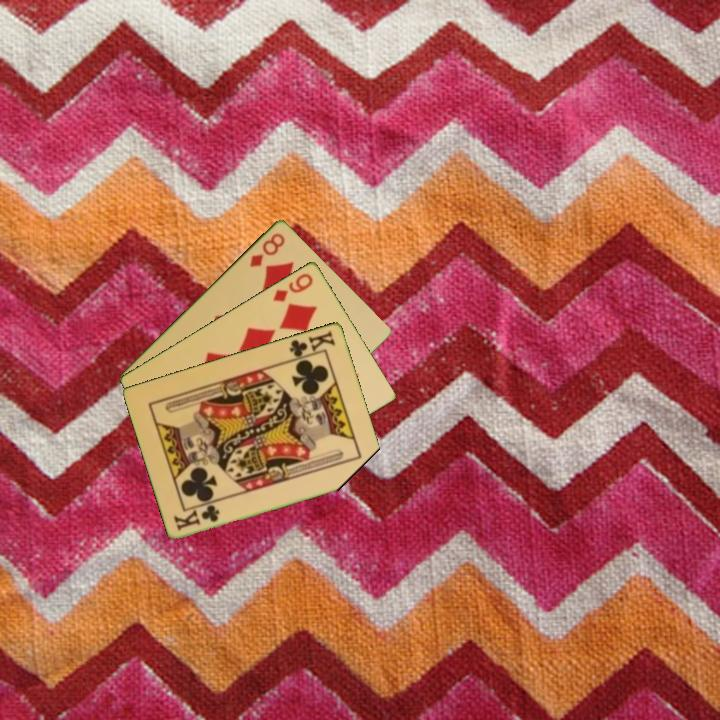8d: (246, 229, 288, 270)
9d: (270, 269, 316, 304)
Kc: (286, 327, 338, 363), (171, 501, 223, 533)
